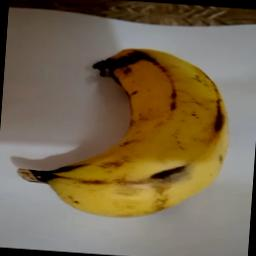Banana Unripe: (10, 36, 237, 225)
